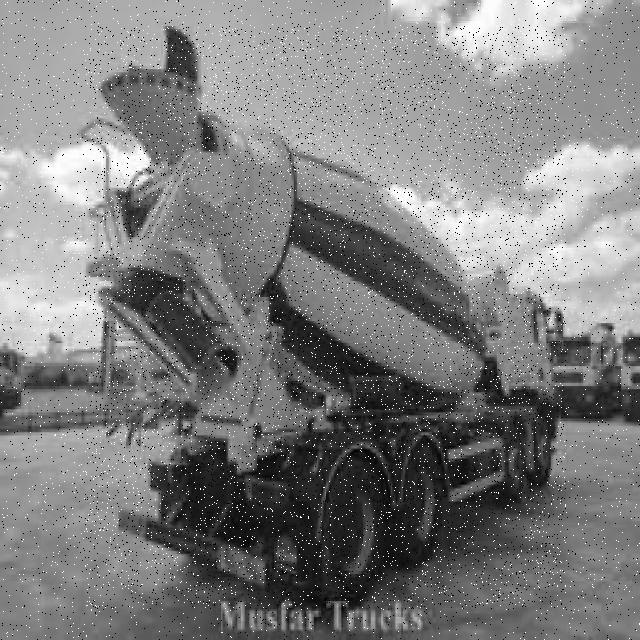Concrete Mixer: (85, 26, 566, 609)
